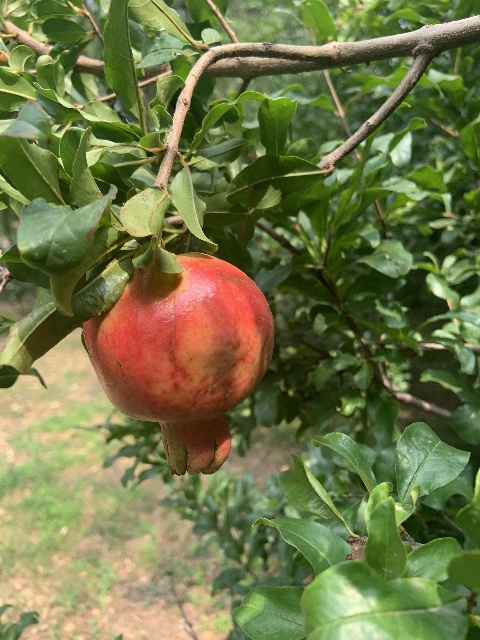ripe: (83, 253, 274, 476)
